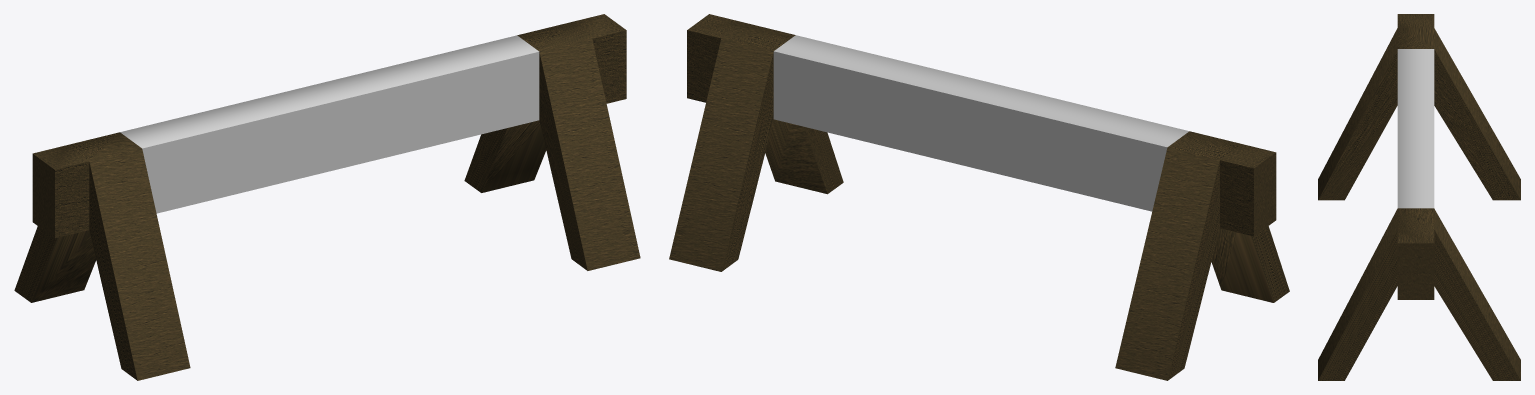
The model's file is Roadblock.fbx.
The picture shows the model from 3 angles, left to right: view 1: azimuth 30°, elevation 25°; view 2: azimuth 150°, elevation 25°; view 3: azimuth 270°, elevation 25°; orthographic projection. The views are drawn at different scales.
Visible parts, largest first — view 1: pCube1; view 2: pCube1; view 3: pCube1.
Boxes of the visible parts, box(x1,y1,x2,y2) form: pCube1: box(14, 14, 640, 380); pCube1: box(669, 14, 1289, 380); pCube1: box(1318, 14, 1520, 380).
Bounding box in the file's own units: 8.72 × 2.68 × 3.26.
